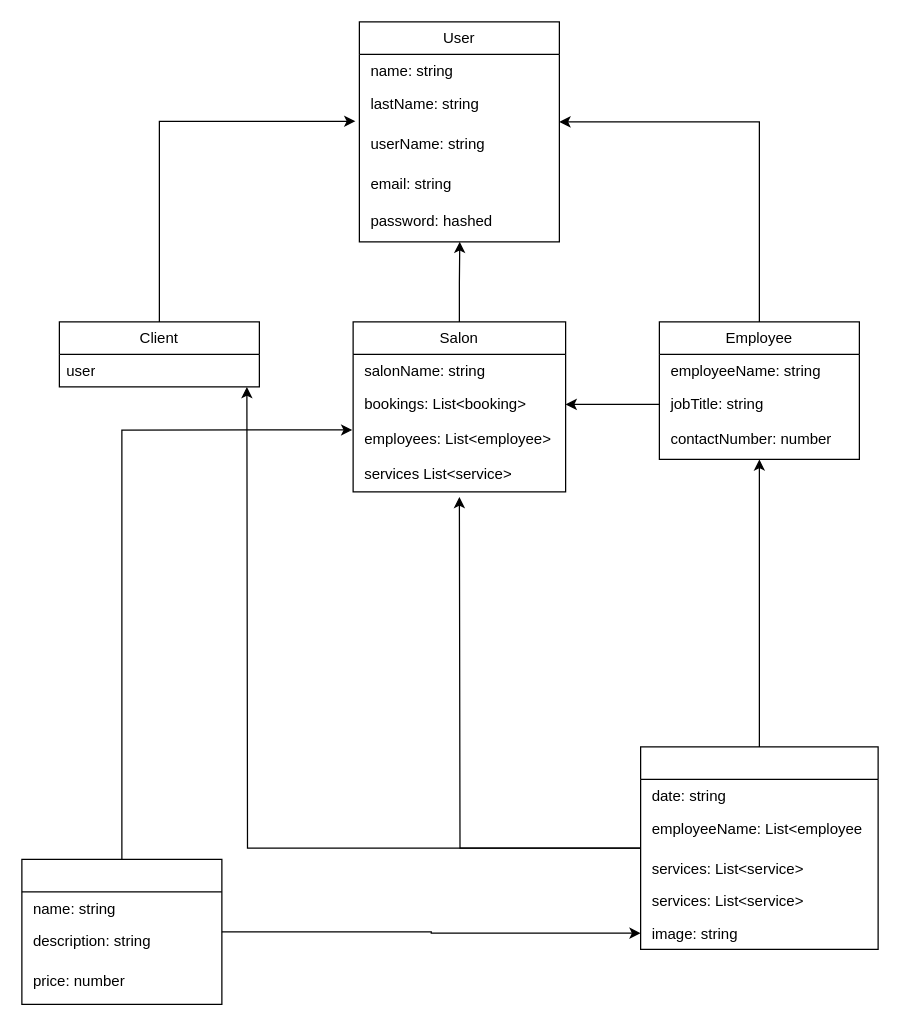
The diagram is 900 pixels wide and 1030 high, and some of its shapes have lost their labels. Each missing label, with the box of its shape:
Booking: (639, 746, 878, 949)
Service: (21, 858, 222, 1004)
